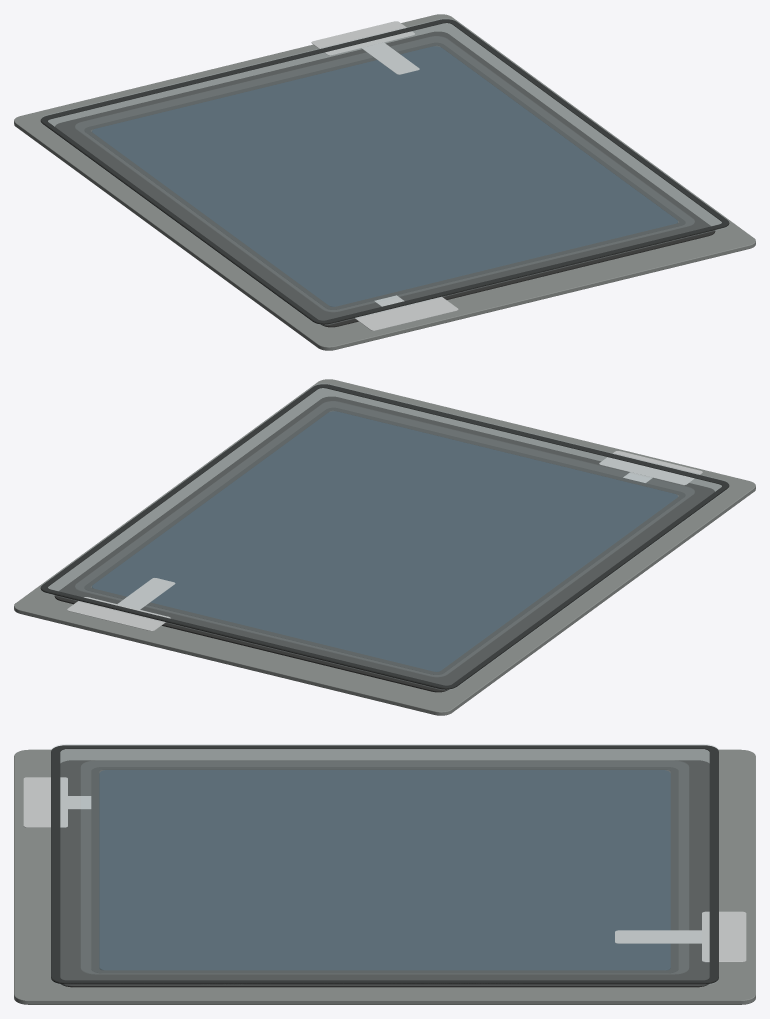
Rendered from solar_iiiv-solarfilm.glb.
The picture shows the model from 3 angles, top to bottom: view 1: azimuth 30°, elevation 25°; view 2: azimuth 150°, elevation 25°; view 3: azimuth 270°, elevation 25°; orthographic projection. The views are drawn at different scales.
Parts seen in each view (by area): view 1: Encapsulation.004, Absorber_film.003, Substrate.004, Back_contact.004, Device_edge_seal.001, Active_area_border.001, Contact_pad.002, Contact_pad.003, Contact_trace.003; view 2: Encapsulation.004, Absorber_film.003, Substrate.004, Back_contact.004, Device_edge_seal.001, Active_area_border.001, Contact_pad.003, Contact_pad.002, Contact_trace.003; view 3: Encapsulation.004, Absorber_film.003, Substrate.004, Back_contact.004, Device_edge_seal.001, Active_area_border.001, Contact_pad.003, Contact_pad.002, Contact_trace.003.
Part boxes in pixels (bbox=[...]): Encapsulation.004: bbox=[41, 18, 728, 325]; Absorber_film.003: bbox=[92, 46, 677, 306]; Substrate.004: bbox=[14, 14, 755, 350]; Back_contact.004: bbox=[55, 31, 715, 327]; Device_edge_seal.001: bbox=[40, 19, 729, 324]; Active_area_border.001: bbox=[84, 42, 685, 309]; Contact_pad.002: bbox=[355, 296, 458, 330]; Contact_pad.003: bbox=[311, 21, 414, 55]; Contact_trace.003: bbox=[361, 42, 419, 74]; Encapsulation.004: bbox=[41, 383, 728, 690]; Absorber_film.003: bbox=[92, 411, 677, 671]; Substrate.004: bbox=[14, 379, 755, 715]; Back_contact.004: bbox=[54, 396, 714, 692]; Device_edge_seal.001: bbox=[40, 384, 729, 689]; Active_area_border.001: bbox=[84, 407, 685, 674]; Contact_pad.003: bbox=[67, 597, 170, 631]; Contact_pad.002: bbox=[599, 451, 702, 485]; Contact_trace.003: bbox=[117, 578, 175, 609]; Encapsulation.004: bbox=[51, 744, 718, 985]; Absorber_film.003: bbox=[99, 770, 670, 970]; Substrate.004: bbox=[14, 749, 755, 1004]; Back_contact.004: bbox=[60, 760, 709, 987]; Device_edge_seal.001: bbox=[51, 745, 718, 984]; Active_area_border.001: bbox=[91, 767, 678, 973]; Contact_pad.003: bbox=[702, 911, 746, 962]; Contact_pad.002: bbox=[23, 777, 67, 827]; Contact_trace.003: bbox=[615, 930, 701, 943].
Size of the model in its own units: 0.08 by 0.00246 by 0.1.
